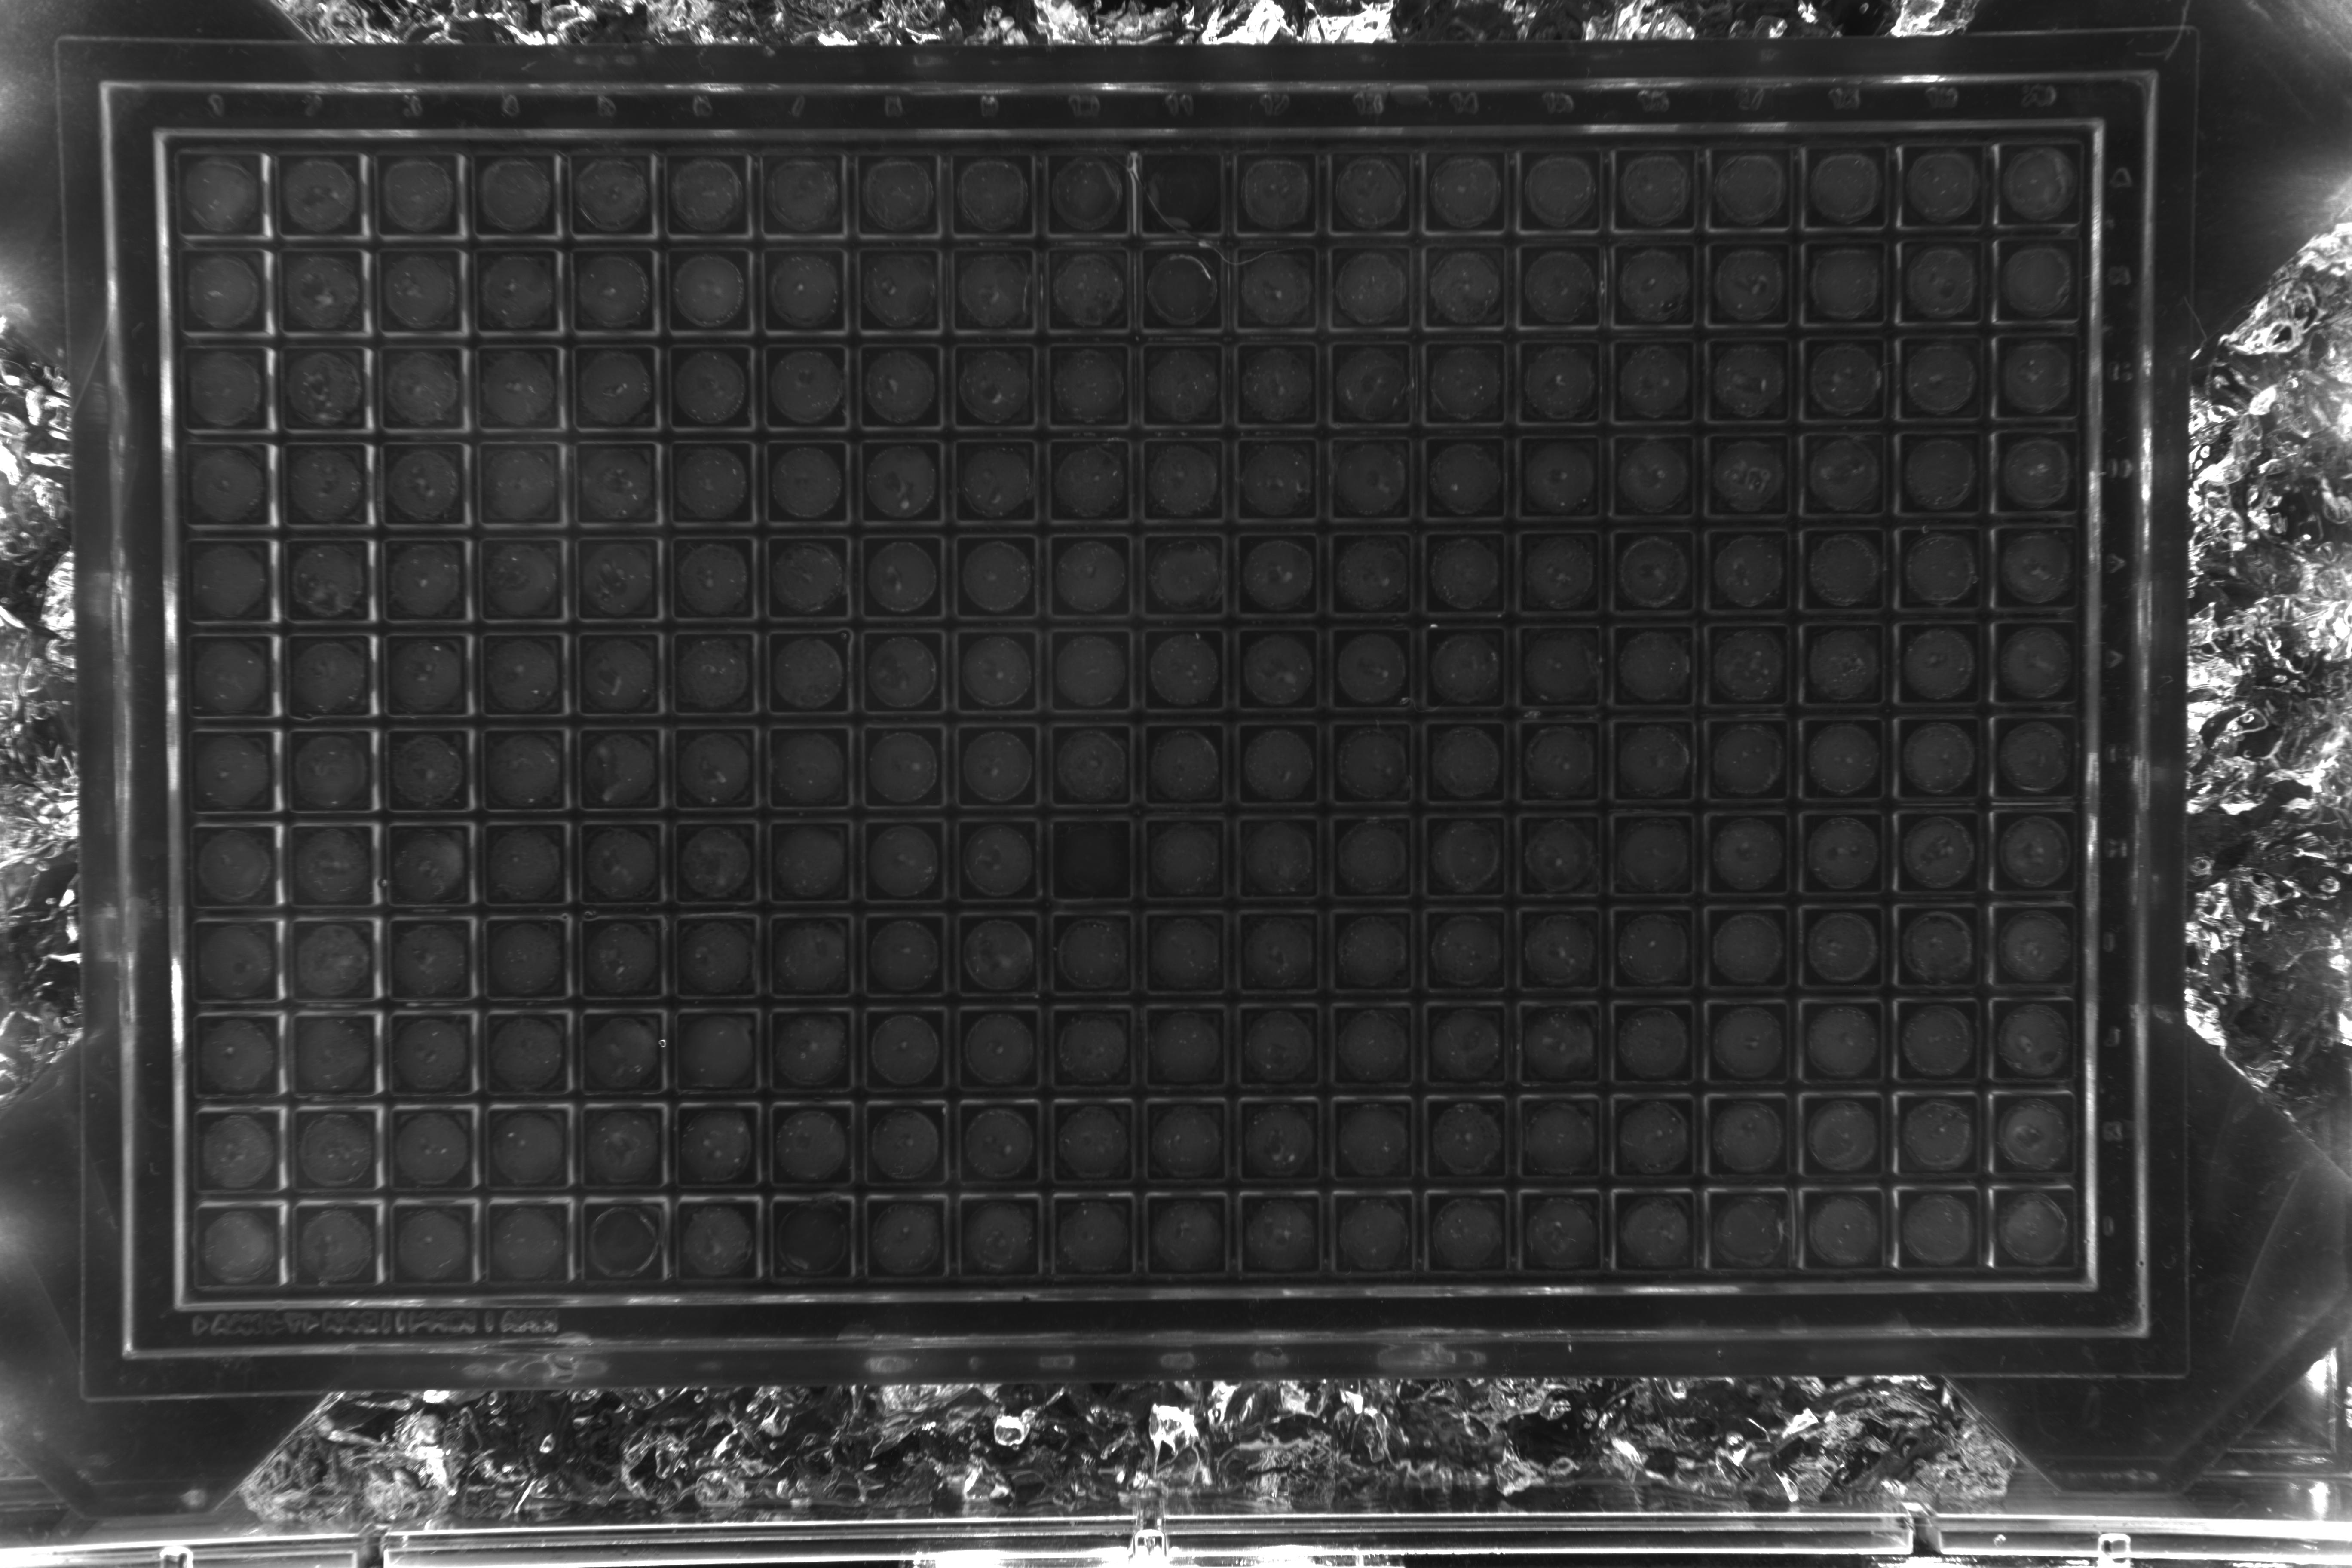WM_well: (399, 828, 488, 915), (495, 633, 584, 721), (982, 534, 1071, 621), (1368, 1209, 1456, 1298), (294, 338, 381, 425), (303, 926, 390, 1013), (303, 1216, 390, 1304), (401, 1216, 488, 1304), (887, 1018, 975, 1106), (887, 1211, 975, 1298), (983, 824, 1071, 912), (1078, 142, 1165, 229), (1176, 532, 1263, 619), (1176, 726, 1263, 814), (1370, 726, 1458, 814), (1468, 334, 1556, 422), (1470, 236, 1557, 324), (1564, 628, 1652, 716), (1760, 822, 1848, 910), (1760, 724, 1848, 812), (1762, 528, 1850, 616), (1766, 133, 1853, 220), (2060, 625, 2147, 712)
